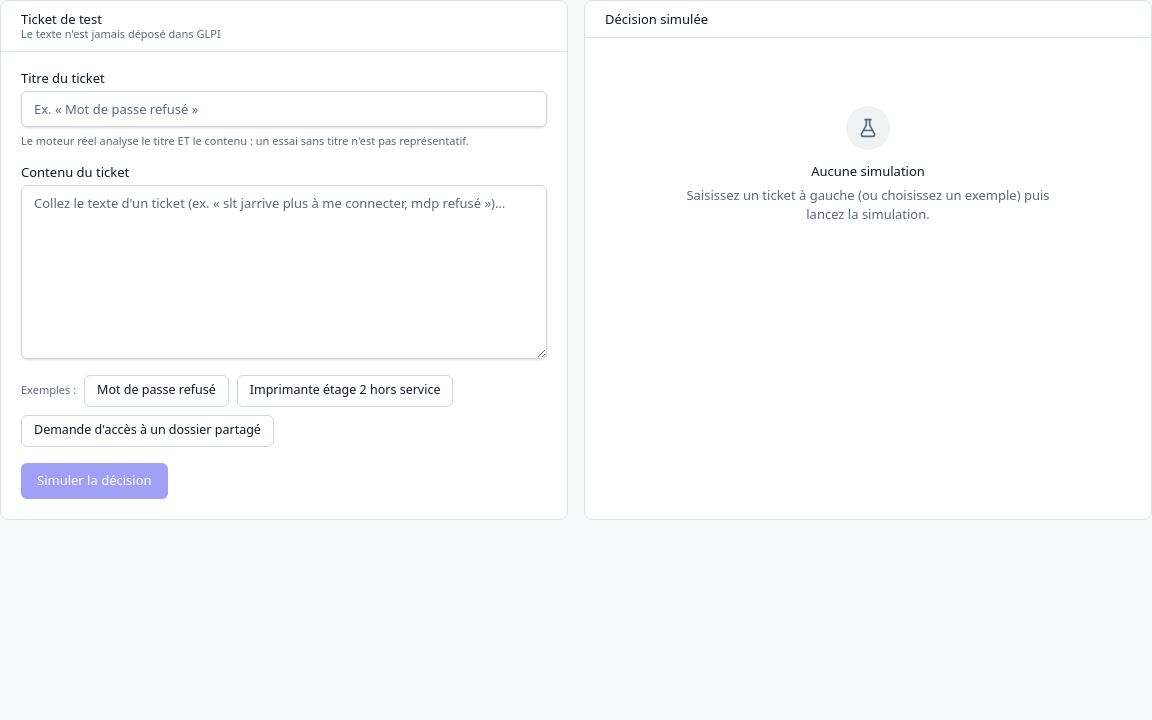
Test: Sandbox › un refus annonce le BLOCAGE et nomme l'étape — pas « liste blanche » par défaut
The image size is (1152, 720).
Type "xx" into the text box labelled "Contenu du ticket" at (284, 272), box 21,184 -> 547,358
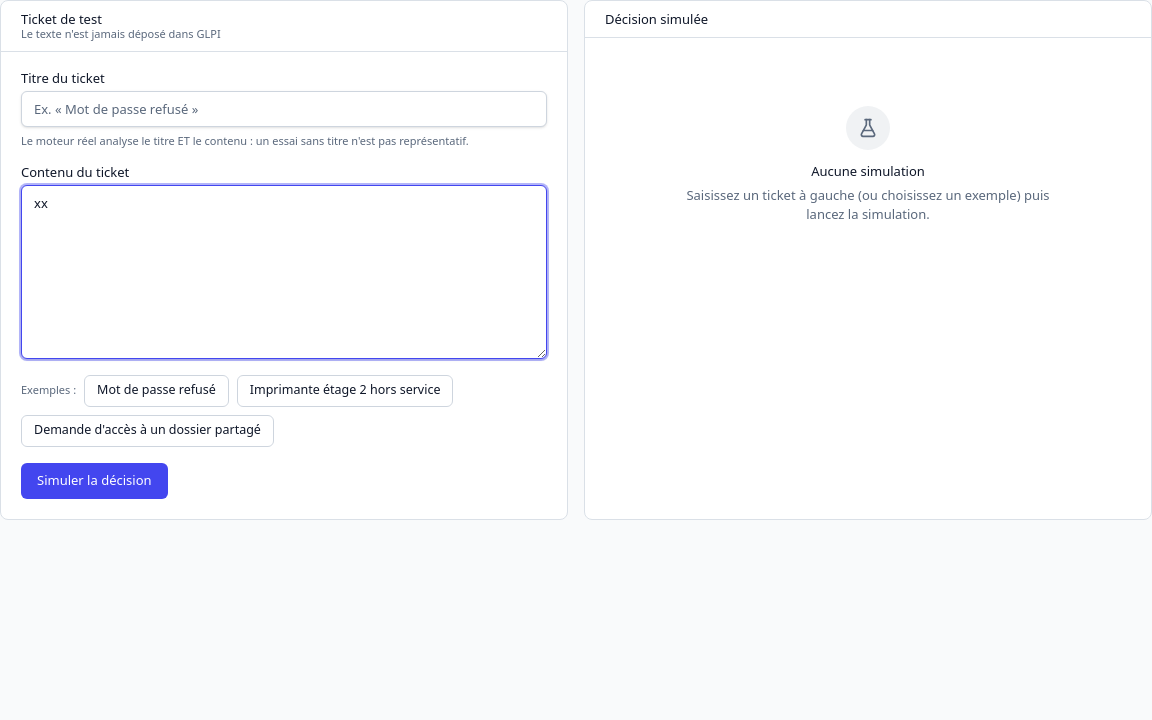
Click the button "Simuler la décision" at (94, 480), box 21,462 -> 168,498
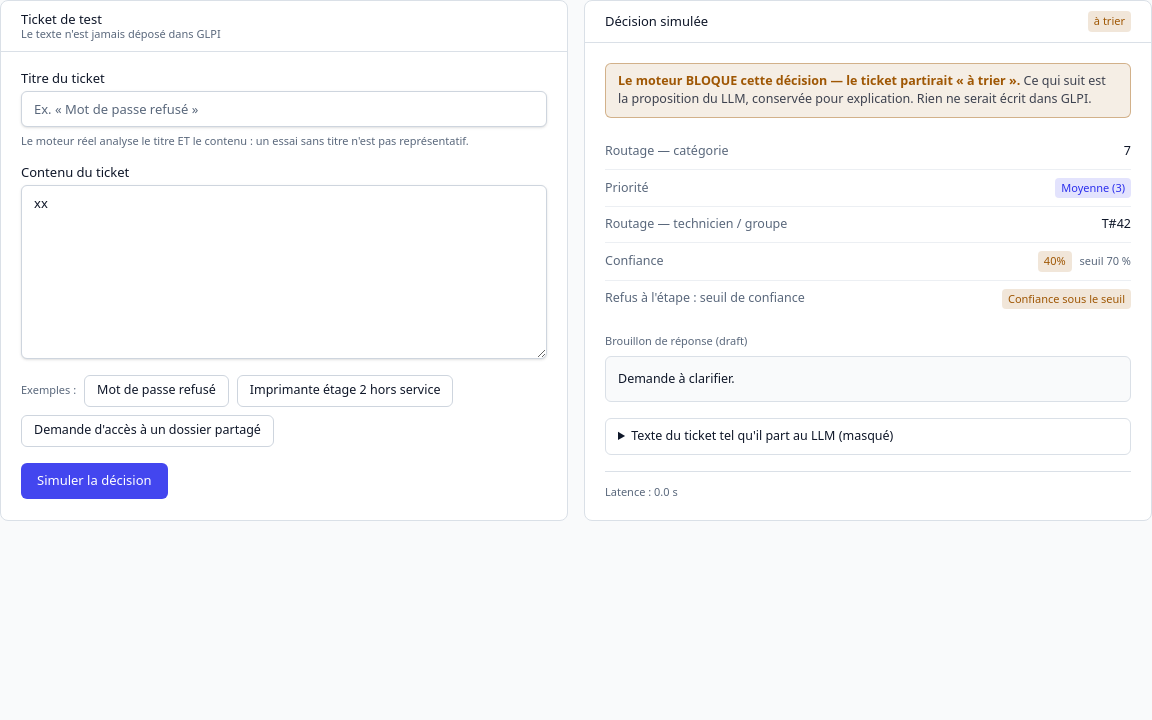
Now the text "Le moteur BLOQUE cette décision" is shown, box 618,72 -> 1020,88
Now the text "Rien ne serait écrit dans GLPI" is shown, box 618,72 -> 1106,107
Now the text "Refus à l'étape : seuil de confiance" is shown, box 605,289 -> 805,308
